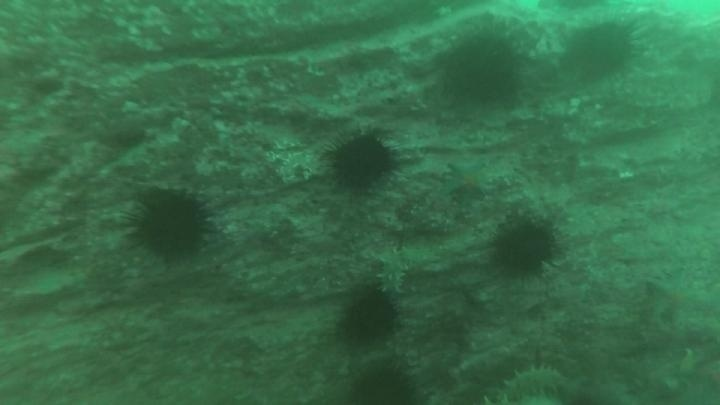echinus: (436, 25, 527, 113), (123, 184, 215, 266), (486, 211, 564, 282), (562, 17, 642, 85), (323, 126, 401, 195), (334, 283, 403, 350), (345, 358, 421, 404)
holothurian: (486, 363, 579, 404), (372, 240, 434, 301)
starfish: (643, 270, 715, 330), (443, 157, 491, 203)
